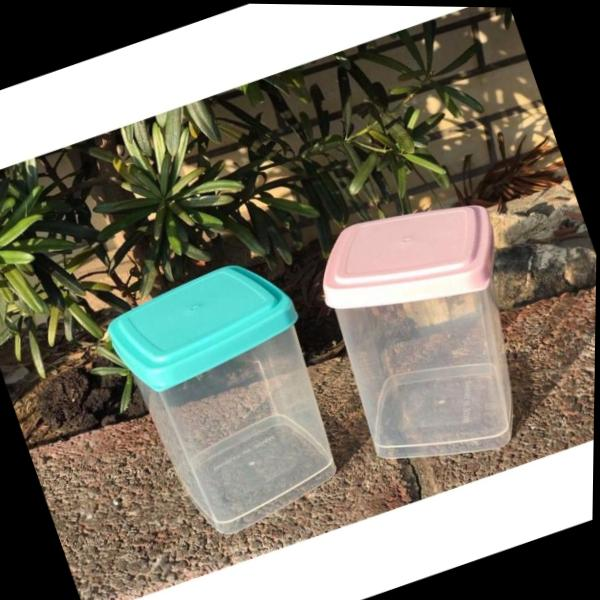plastic: (296, 179, 566, 494), (92, 243, 363, 554)
